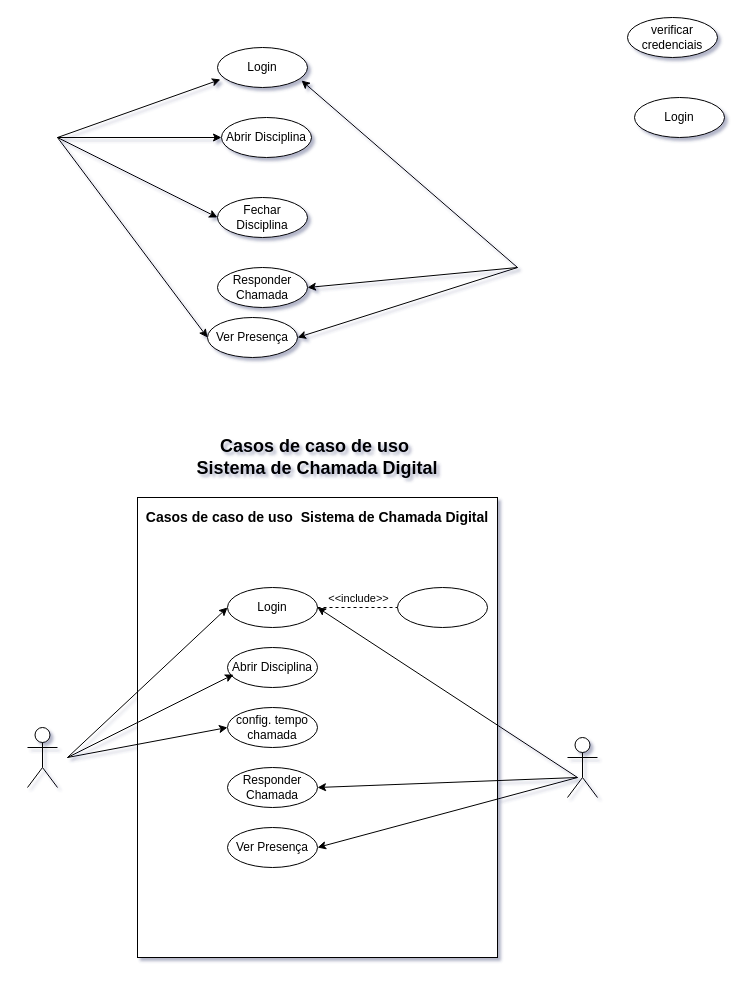
This 748x981 diagram has some shape labels left out. The centre of each missing label's shape, as x and y in pixels:
"Aluno" belongs at pixel 582 767.
"autenticar usuário" belongs at pixel 442 607.
"Professor" belongs at pixel 42 757.
